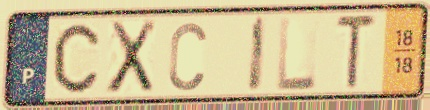C: (51, 21, 102, 96), (166, 19, 209, 93)
I: (246, 14, 270, 95)
L: (275, 14, 319, 94)
T: (334, 13, 379, 93)
X: (104, 17, 160, 97)
